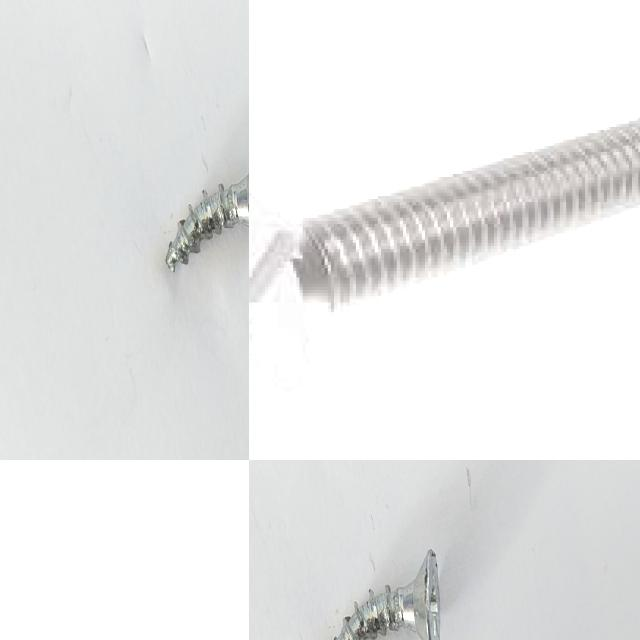Screw: (249, 117, 640, 400), (333, 549, 441, 640), (166, 171, 249, 271)
